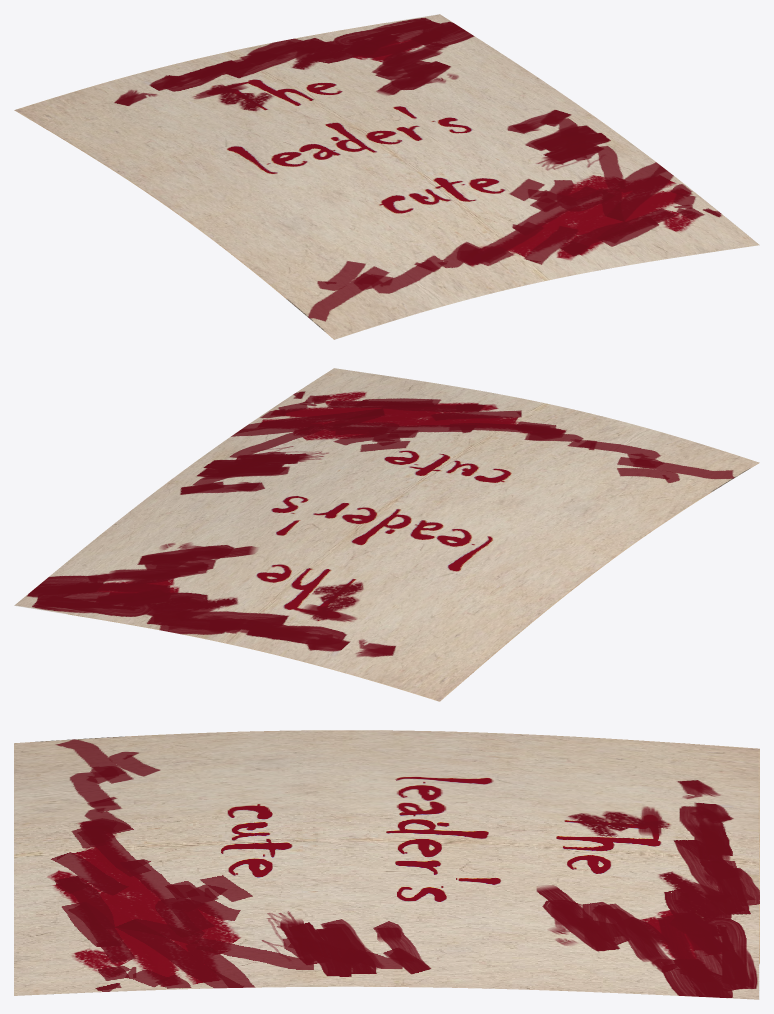
Rendered from page 1.fbx.
3 renders of one model, top to bottom at view 1: azimuth 30°, elevation 25°; view 2: azimuth 150°, elevation 25°; view 3: azimuth 270°, elevation 25°, orthographic. The views are drawn at different scales.
Parts seen in each view (by area): view 1: Plane; view 2: Plane; view 3: Plane.
Part boxes in pixels (<box>): Plane: <box>14,14,759,339</box>; Plane: <box>14,368,759,701</box>; Plane: <box>14,730,759,999</box>.
Size of the model in its own units: 118 by 9.27 by 154.
